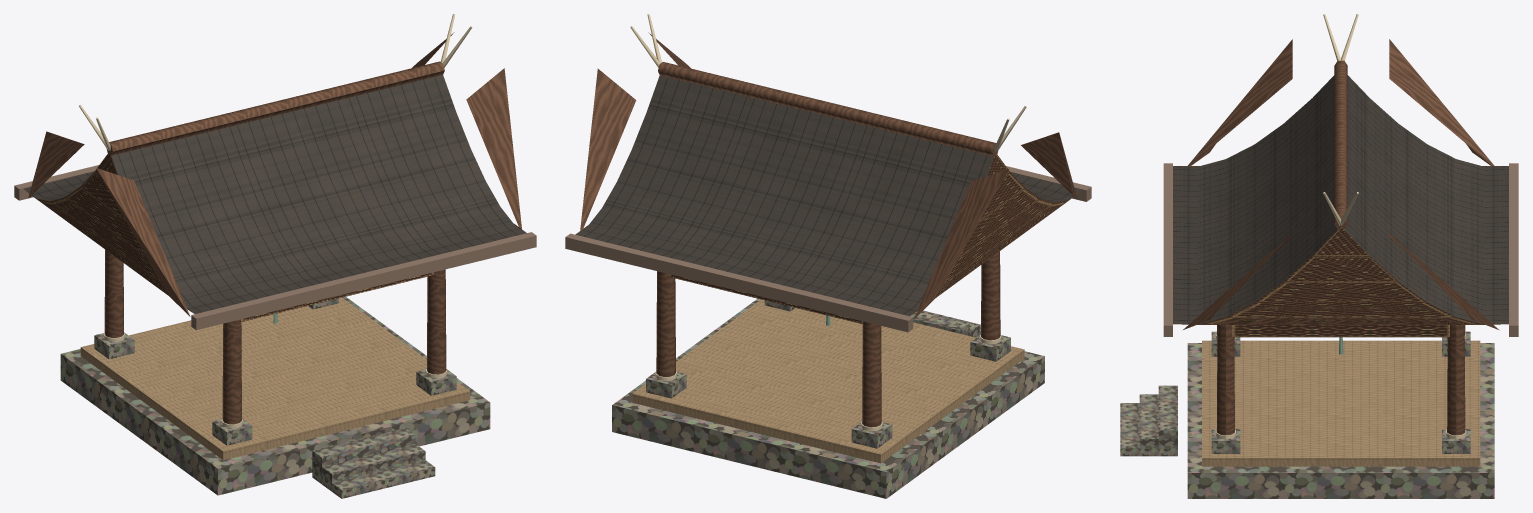
The model's file is pendopo-placeholder.glb.
3 renders of one model, left to right at view 1: azimuth 30°, elevation 25°; view 2: azimuth 150°, elevation 25°; view 3: azimuth 270°, elevation 25°, orthographic. The views are drawn at different scales.
Visible parts, largest first — view 1: pendopo_placeholder; view 2: pendopo_placeholder; view 3: pendopo_placeholder.
Part boxes in pixels (x1,y1,x2,y2): pendopo_placeholder: (14,14,536,498); pendopo_placeholder: (565,14,1091,498); pendopo_placeholder: (1120,14,1518,498).
Size of the model in its own units: 9.6 by 7.61 by 8.3.
Materials: 9 (5 with a texture image).
